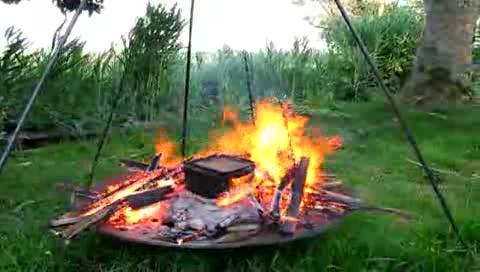fire: (241, 108, 322, 187)
